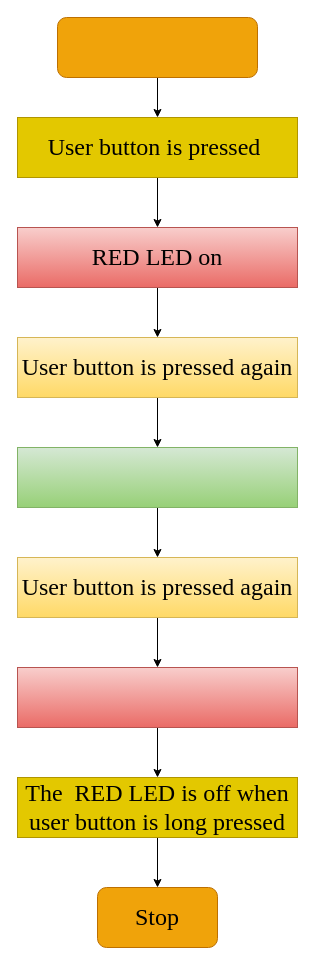
Image size: 315x965. Some labels were removed from this diagram. The shapes that lost their labels are listed below. From the top down, each one's centre as x and y in pixels, then its label:
(157,47): Start
(157,477): Blue, Green, Orange LED's glow one by one
(157,697): LED glow stop; the wiper action starts on next press
